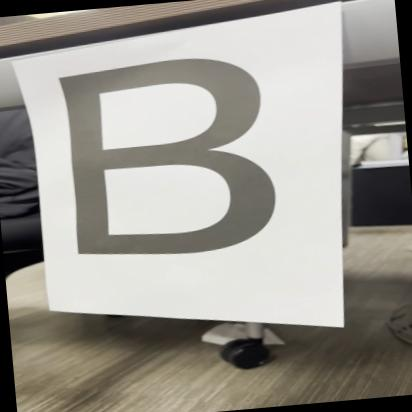seat: (30, 44, 322, 268)
